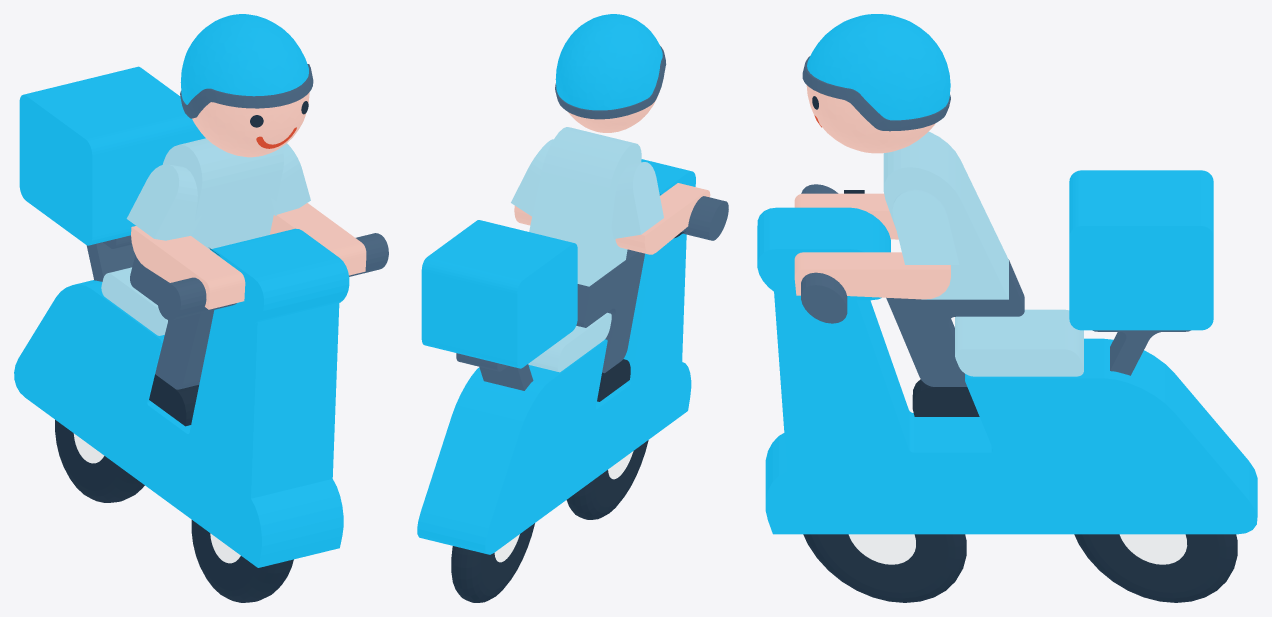
The picture shows the model from 3 angles, left to right: view 1: azimuth 30°, elevation 25°; view 2: azimuth 150°, elevation 25°; view 3: azimuth 270°, elevation 25°; orthographic projection. The views are drawn at different scales.
Parts seen in each view (by area): view 1: 오토바이, 아이스박스, 오토바이헨들.001, 헬멧, 몸통, 몸통.002, 몸통.001, 모자챙.001, 사람하체, 바퀴앞쪽, 바퀴뒤쪽, 오토바이헨들 (+4 smaller); view 2: 오토바이, 아이스박스, 몸통, 헬멧, 사람하체, 몸통.001, 바퀴뒤쪽, 몸통.002, 바퀴앞쪽, 의자시트, 오토바이헨들, 오토바이뒷부분 (+4 smaller); view 3: 오토바이, 아이스박스, 헬멧, 몸통, 바퀴뒤쪽, 바퀴앞쪽, 의자시트, 몸통.002, 오토바이헨들.001, 사람하체, 몸통.001, 모자챙.001 (+4 smaller).
Part boxes in pixels (box(x1,y1,x2,y2)): 오토바이: box(14, 280, 343, 567); 아이스박스: box(19, 66, 205, 245); 오토바이헨들.001: box(210, 228, 349, 324); 헬멧: box(180, 14, 308, 104); 몸통: box(162, 138, 283, 249); 몸통.002: box(131, 203, 366, 309); 몸통.001: box(126, 143, 310, 240); 모자챙.001: box(192, 92, 309, 157); 사람하체: box(130, 255, 214, 389); 바퀴앞쪽: box(191, 520, 293, 602); 바퀴뒤쪽: box(55, 420, 144, 502); 오토바이헨들: box(157, 233, 388, 320); 오토바이: box(417, 233, 691, 554); 아이스박스: box(421, 220, 577, 368); 몸통: box(529, 127, 641, 286); 헬멧: box(555, 14, 662, 110); 사람하체: box(576, 249, 644, 373); 몸통.001: box(511, 139, 663, 238); 바퀴뒤쪽: box(451, 523, 534, 602); 몸통.002: box(514, 183, 710, 254); 바퀴앞쪽: box(566, 440, 648, 519); 의자시트: box(528, 312, 611, 372); 오토바이헨들: box(681, 196, 728, 240); 오토바이뒷부분: box(456, 353, 533, 390); 오토바이: box(765, 292, 1257, 534); 아이스박스: box(1069, 170, 1213, 330); 헬멧: box(807, 14, 950, 120); 몸통: box(883, 131, 1008, 299); 바퀴뒤쪽: box(1074, 534, 1237, 602); 바퀴앞쪽: box(803, 534, 966, 602); 의자시트: box(955, 309, 1083, 376); 몸통.002: box(794, 193, 950, 299); 오토바이헨들.001: box(757, 207, 890, 300); 사람하체: box(886, 259, 1024, 386); 몸통.001: box(892, 189, 959, 264); 모자챙.001: box(806, 85, 935, 153).
Bounding box in the file's own units: 2.34 × 6.3 × 4.91.
